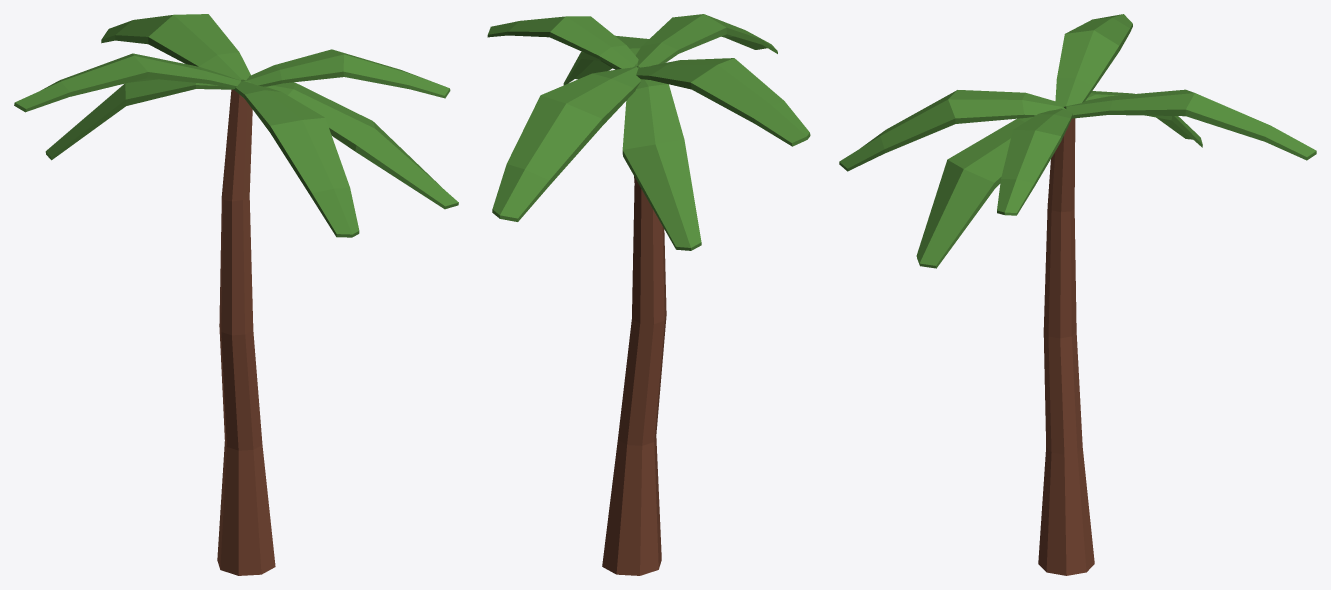
File: Tree_38_summer_vc.fbx
3 renders of one model, left to right at view 1: azimuth 30°, elevation 25°; view 2: azimuth 150°, elevation 25°; view 3: azimuth 270°, elevation 25°, orthographic. The views are drawn at different scales.
Parts seen in each view (by area): view 1: Tree_38_summer_vc; view 2: Tree_38_summer_vc; view 3: Tree_38_summer_vc.
Boxes of the visible parts, <box> form: Tree_38_summer_vc: <box>14,14,458,575</box>; Tree_38_summer_vc: <box>487,14,810,575</box>; Tree_38_summer_vc: <box>839,14,1316,575</box>.
Bounding box in the file's own units: 4.16 × 5.56 × 4.92.
